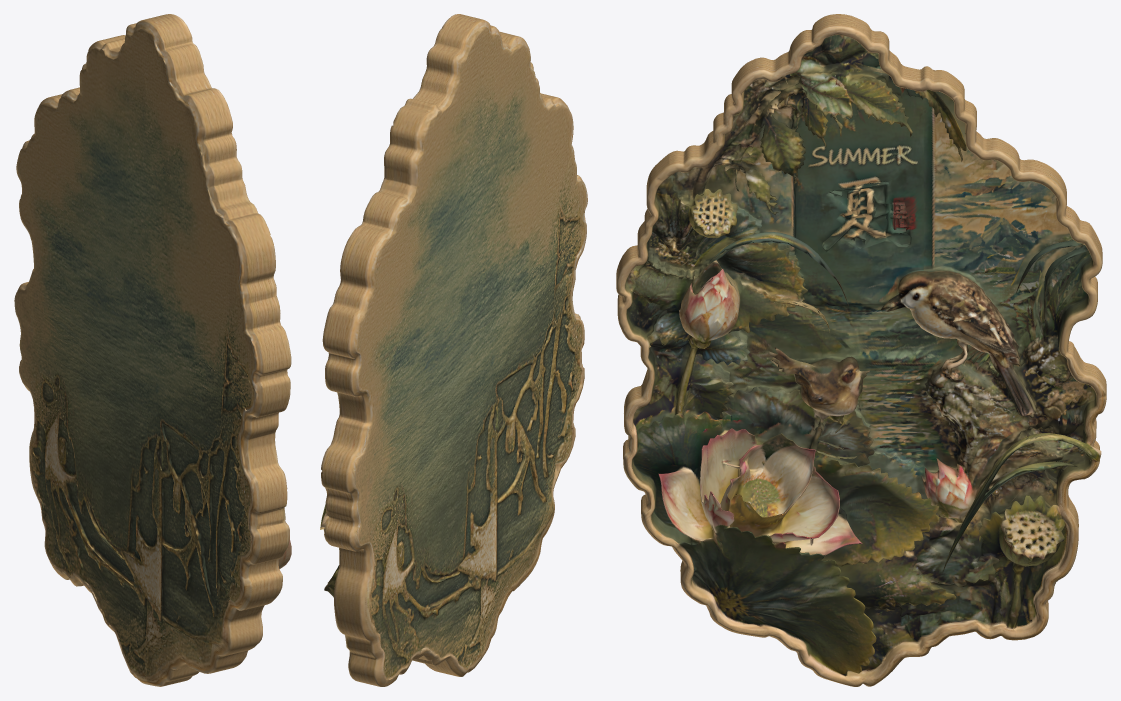
The model's file is tripo_pbr_model_fe735601-8af2-457f-9875-b2fe84a6b668.glb.
3 views of the same model, side by side, from view 1: azimuth 30°, elevation 25°; view 2: azimuth 150°, elevation 25°; view 3: azimuth 270°, elevation 25° (orthographic). The views are drawn at different scales.
Visible parts, largest first — view 1: tripo_node_fe735601-8af2-457f-9875-b2fe84a6b668; view 2: tripo_node_fe735601-8af2-457f-9875-b2fe84a6b668; view 3: tripo_node_fe735601-8af2-457f-9875-b2fe84a6b668.
Boxes of the visible parts, x1,y1,x2,y2 form: tripo_node_fe735601-8af2-457f-9875-b2fe84a6b668: (14, 14, 291, 686); tripo_node_fe735601-8af2-457f-9875-b2fe84a6b668: (320, 14, 587, 686); tripo_node_fe735601-8af2-457f-9875-b2fe84a6b668: (616, 14, 1106, 686).
Size of the model in its own units: 0.1284 by 1 by 0.6731.
1 material, 1 textured.
